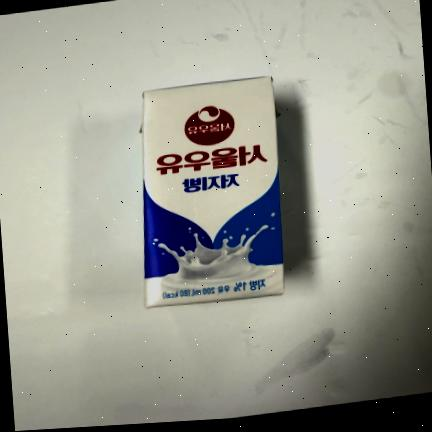milk_blue: (141, 76, 283, 307)
